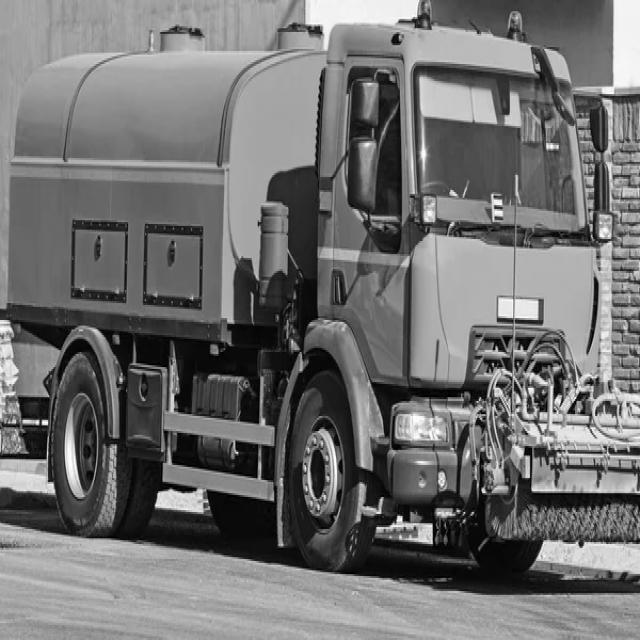Truck: (7, 0, 640, 573)
